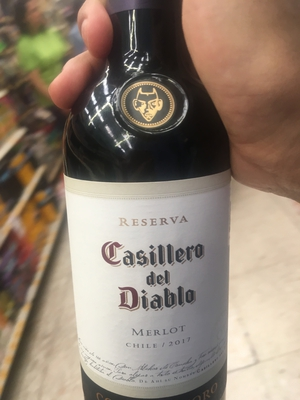casillero del diablo merlot: (60, 6, 249, 400)
